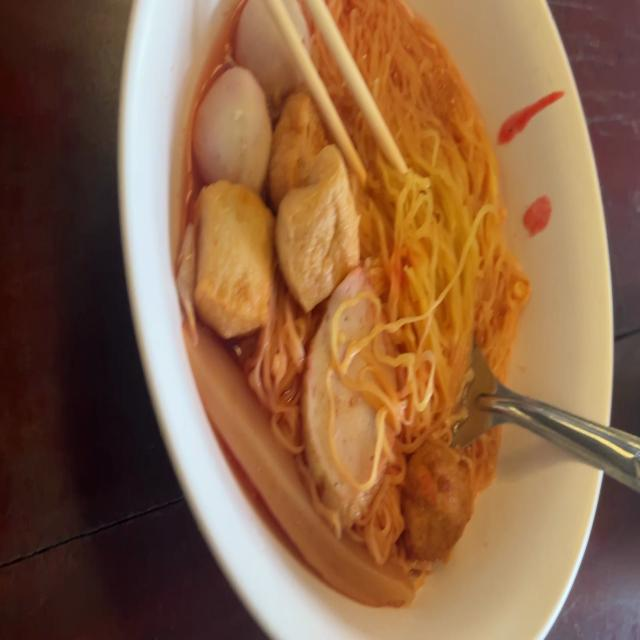crunchy_squid: (184, 303, 419, 609)
egg_noodles: (336, 2, 516, 464)
fish_ball: (191, 60, 276, 196), (232, 0, 312, 99)
fried_fish_balls: (302, 263, 397, 523)
fried_tofu: (269, 96, 359, 302)
noodle: (177, 0, 531, 609)
tofu: (188, 168, 280, 350)
